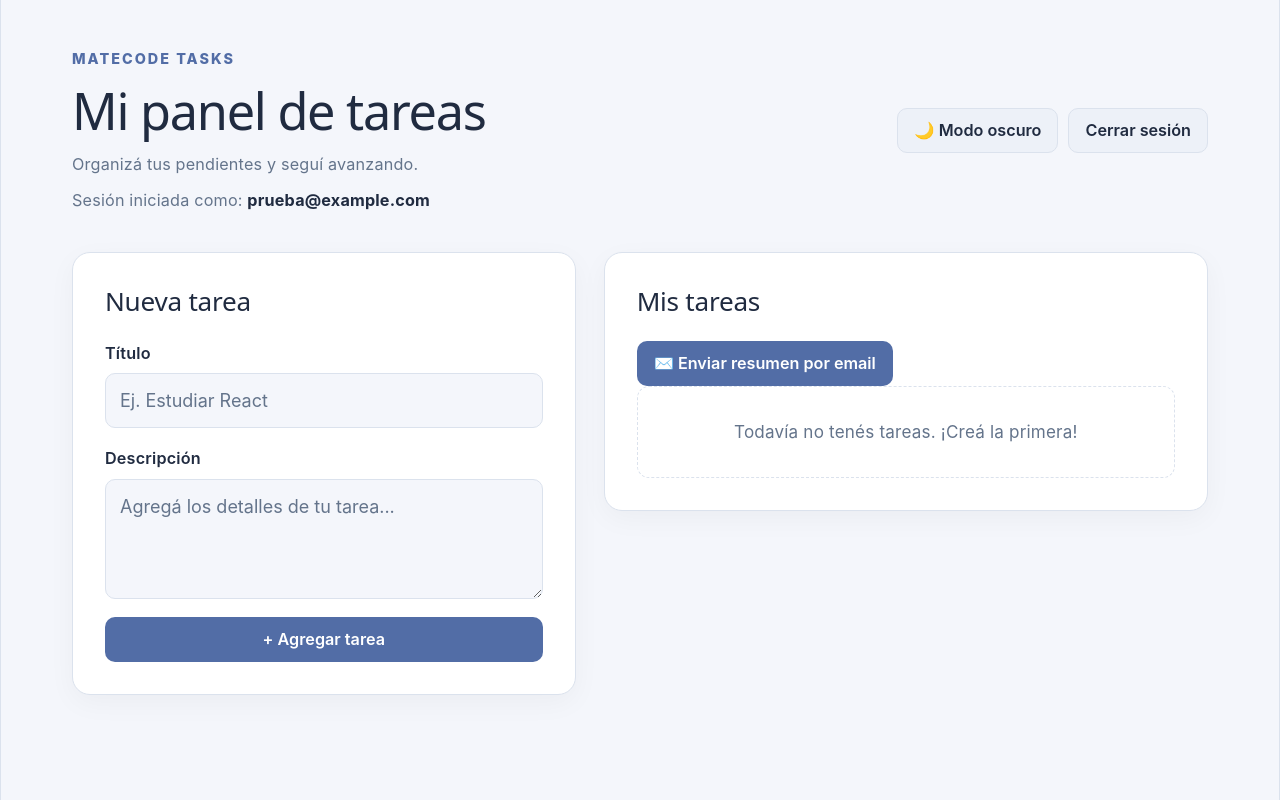
Scenario: Dashboard › permite crear una tarea con título y descripción
Expected: the text "Todavía no tenés tareas. ¡Creá la primera!" is shown, [637,386,1175,478]
In the field labelled "Título": (324, 401) [105,373,543,428], type "Estudiar React"
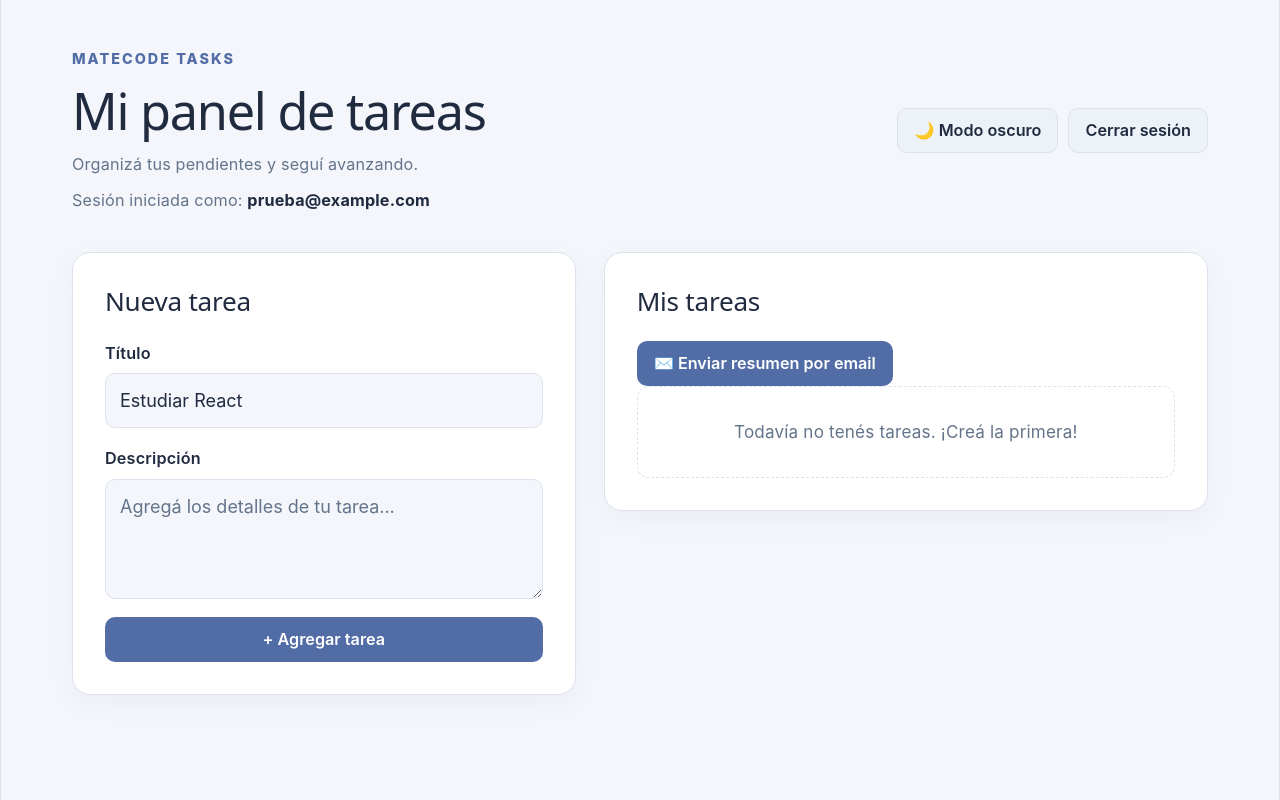
In the text box labelled "Descripción": (324, 539) [105,479,543,599], type "Repasar componentes y hooks"
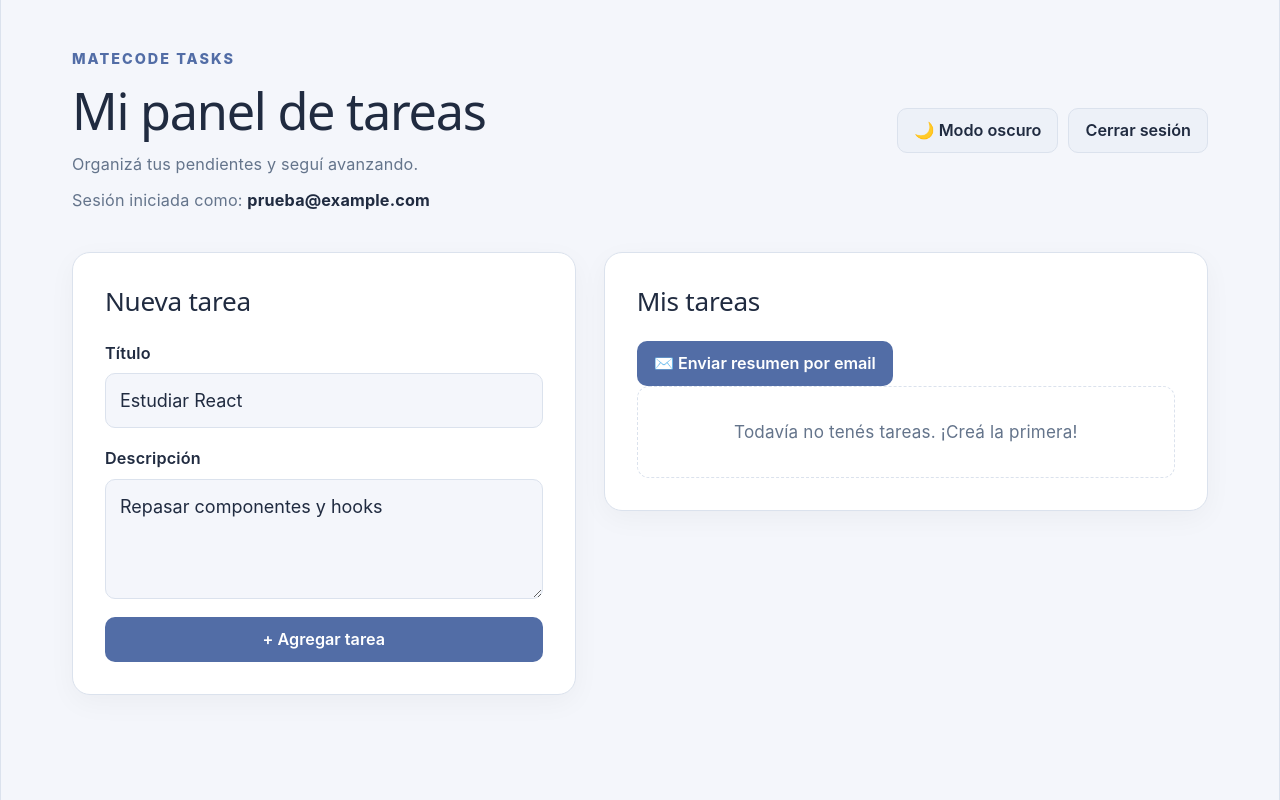
Click the button "+ Agregar tarea": (324, 639) [105,617,543,662]
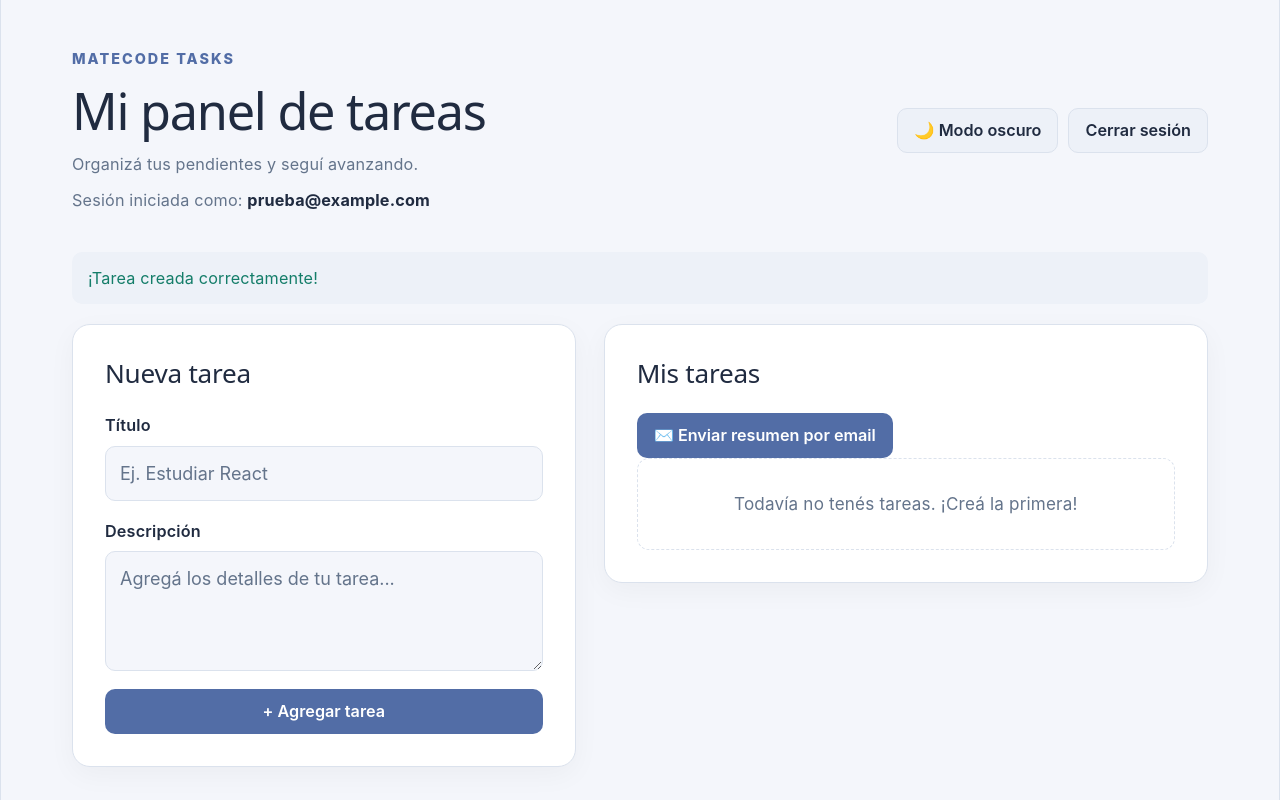
Expected: the text "¡Tarea creada correctamente!" is shown, [72,252,1208,304]
